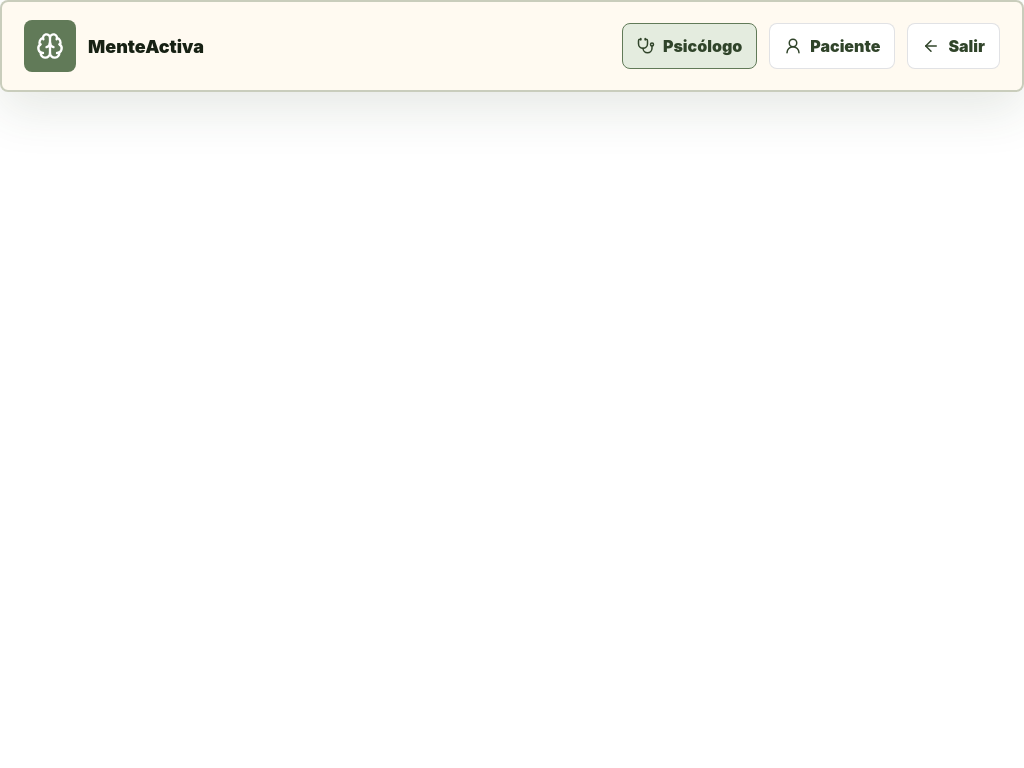
GlobalHeader — cambio de rol con confirmación › cancelar el cambio conserva la sesión actual
Click the button with aria-label "Cambiar a cuenta de Paciente": click(832, 46) [769,23,895,69]
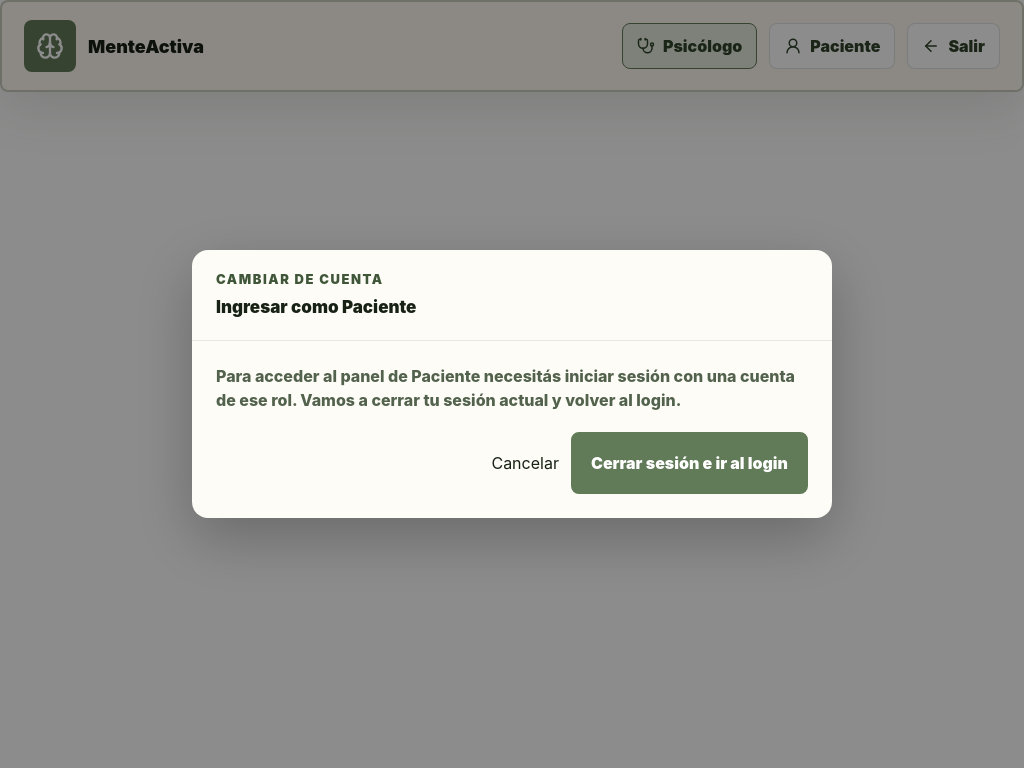
Click the button "Cancelar": click(525, 463) [491,432,559,494]
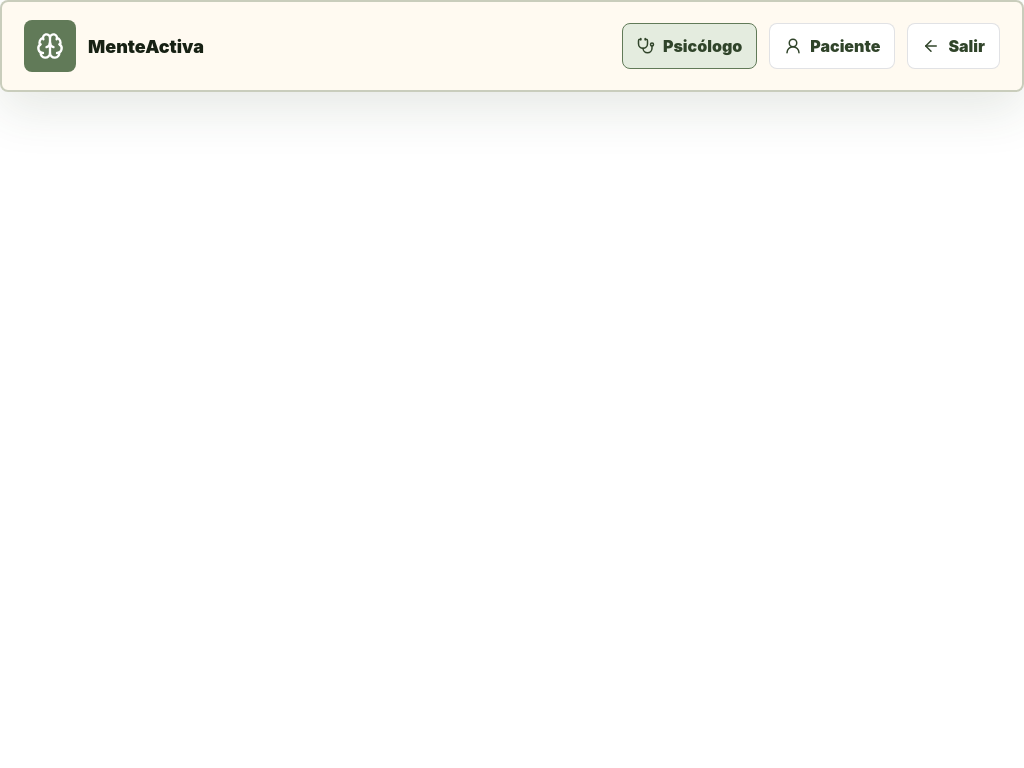
Now the dialog is gone
